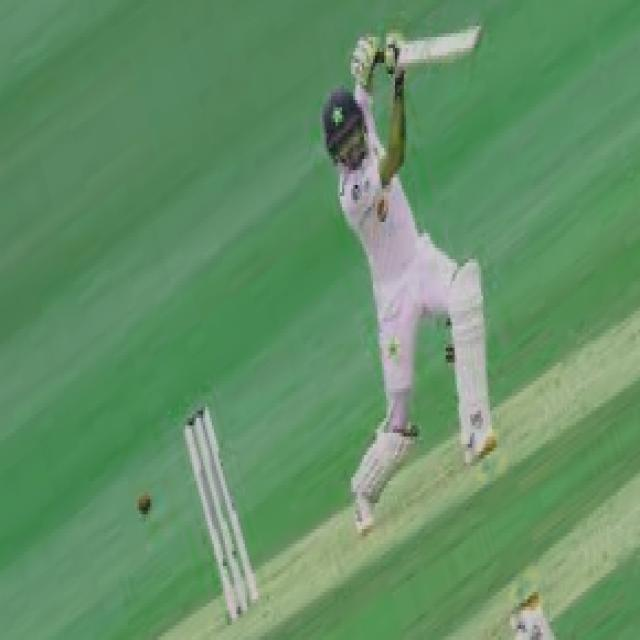toe: (456, 21, 484, 62)
